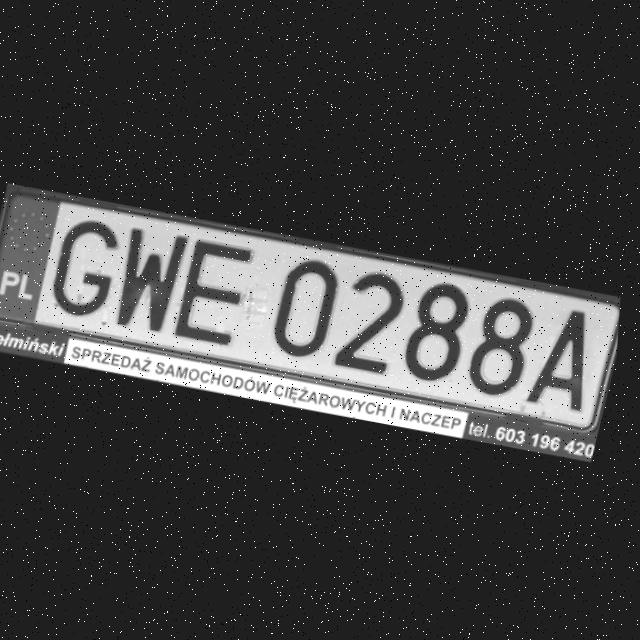license-plates: (0, 193, 620, 430)
